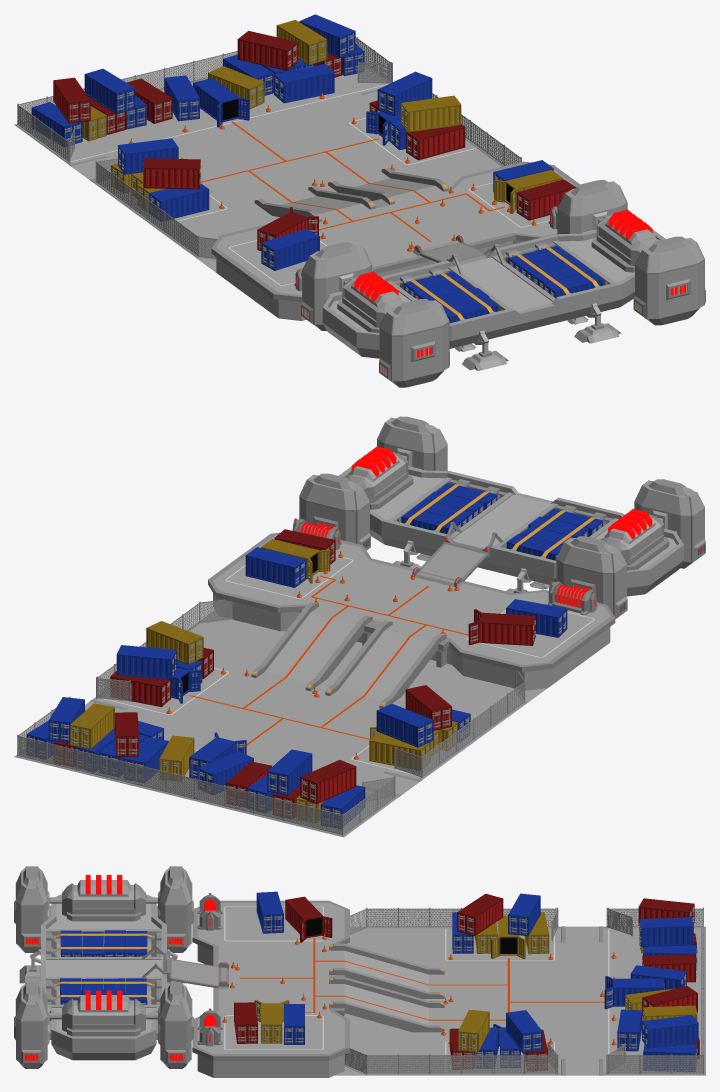
The model's file is stageShippingPacked.glb.
3 renders of one model, top to bottom at view 1: azimuth 30°, elevation 25°; view 2: azimuth 150°, elevation 25°; view 3: azimuth 270°, elevation 25°, orthographic. The views are drawn at different scales.
Visible parts, largest first — view 1: Ship_Hull, Generic, FloorUpper, Ramp, Ramp.002, Pathing, clutterCargoContainerBlue.021, clutterCargoContainerBlue.024, clutterCargoContainerBlue.017, clutterCargoContainerBlue.044, clutterCargoContainerBlue.035, spawnPoint (+28 smaller); view 2: Ship_Hull, Generic, FloorUpper, Ramp.002, Ramp, Ship_Hull.001, spawnPoint.005, Pathing, clutterCargoContainerBlue.030, clutterCargoContainerBlue.029, Ship_Connectors, clutterCargoContainerBlue.023 (+24 smaller); view 3: Generic, Ship_Hull, FloorUpper, Ramp, Ramp.002, Pathing, Ship_Hull.001, clutterCargoContainerBlue.004, clutterCargoContainerBlue.013, Ship_Connectors, spawnPoint.005, clutterCargoContainerBlue.044 (+47 smaller).
Part boxes in pixels (left/top/right/bottom): Ship_Hull: left=301, top=180, right=705, bottom=387; Generic: left=14, top=64, right=505, bottom=272; FloorUpper: left=211, top=161, right=579, bottom=320; Ramp: left=328, top=168, right=453, bottom=206; Ramp.002: left=254, top=185, right=380, bottom=222; Pathing: left=129, top=92, right=536, bottom=251; clutterCargoContainerBlue.021: left=401, top=95, right=461, bottom=132; clutterCargoContainerBlue.024: left=237, top=31, right=297, bottom=70; clutterCargoContainerBlue.017: left=274, top=64, right=334, bottom=103; clutterCargoContainerBlue.044: left=143, top=158, right=201, bottom=189; clutterCargoContainerBlue.035: left=261, top=228, right=319, bottom=270; spawnPoint: left=193, top=78, right=249, bottom=127; Ship_Hull: left=299, top=416, right=705, bottom=618; Generic: left=14, top=610, right=547, bottom=837; FloorUpper: left=208, top=532, right=615, bottom=690; Ramp.002: left=325, top=620, right=451, bottom=708; Ramp: left=251, top=602, right=381, bottom=691; Ship_Hull.001: left=410, top=522, right=503, bottom=587; spawnPoint.005: left=468, top=609, right=535, bottom=645; Pathing: left=166, top=551, right=468, bottom=765; clutterCargoContainerBlue.030: left=245, top=547, right=306, bottom=587; clutterCargoContainerBlue.029: left=116, top=645, right=176, bottom=679; Ship_Connectors: left=292, top=518, right=597, bottom=614; clutterCargoContainerBlue.023: left=376, top=703, right=433, bottom=747; Generic: left=335, top=926, right=705, bottom=1075; Ship_Hull: left=14, top=866, right=193, bottom=1068; FloorUpper: left=192, top=900, right=349, bottom=1077; Ramp: left=329, top=977, right=444, bottom=1032; Ramp.002: left=329, top=943, right=444, bottom=998; Pathing: left=222, top=933, right=616, bottom=1045; Ship_Hull.001: left=141, top=944, right=228, bottom=989; clutterCargoContainerBlue.004: left=642, top=1015, right=698, bottom=1048; clutterCargoContainerBlue.013: left=639, top=917, right=693, bottom=946; Ship_Connectors: left=194, top=893, right=222, bottom=1046; spawnPoint.005: left=285, top=896, right=332, bottom=942; clutterCargoContainerBlue.044: left=457, top=893, right=503, bottom=935.
Size of what is drawn, in the model's own units: 70 by 16 by 132.
